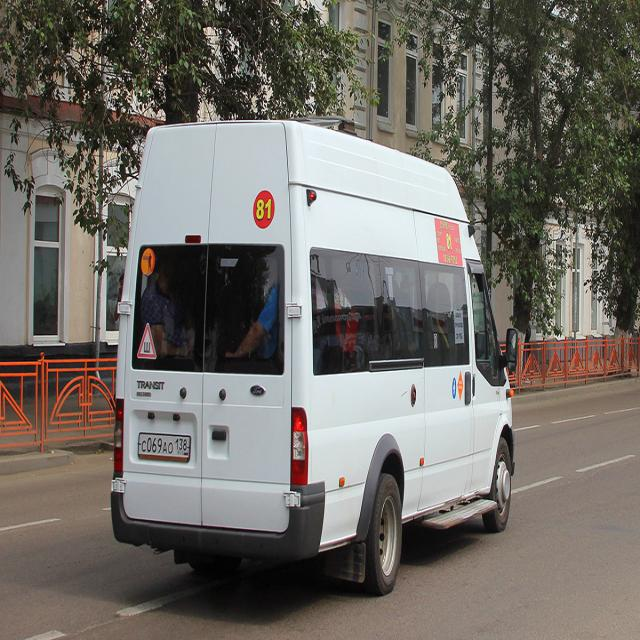number-of-bus: (255, 194, 274, 223), (446, 232, 455, 253)
